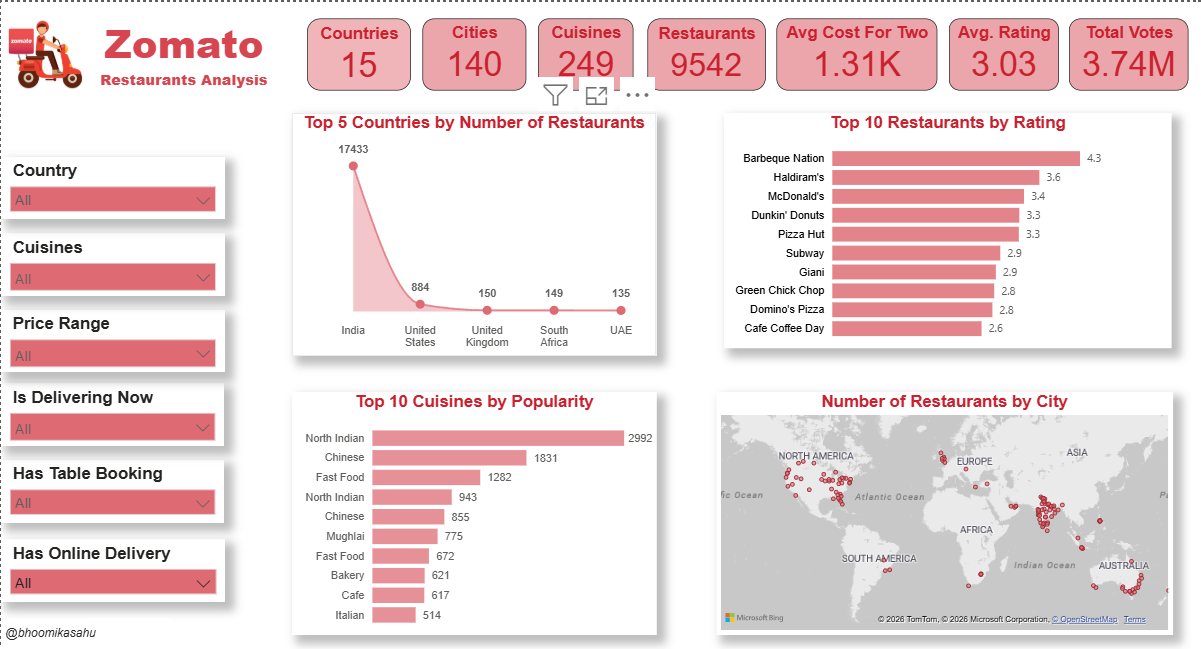

This screenshot's page, from the dashboard's own definition file:
{"tool":"powerbi","page":{"name":"Page 1","canvas":[1340,720],"ordinal":0},"visuals":[{"type":"card","title":"Restaurants","fields":{"Values":["Zomato_Dataset.Total Restaurants"]},"box":[718.8,18.8,131.2,80],"z":0},{"type":"card","title":"Cities","fields":{"Values":["Count(Zomato_Dataset.City)"]},"box":[467.5,18.8,115,80],"z":1000},{"type":"card","title":"Countries","fields":{"Values":["Count(Zomato_Dataset.Country)"]},"box":[340,18.8,115,80],"z":2000},{"type":"card","title":"Cuisines","fields":{"Values":["Count(Zomato_Dataset.Cuisines)"]},"box":[596.2,18.8,106.2,80],"z":3000},{"type":"card","title":"Avg. Rating","fields":{"Values":["Avg(Zomato_Dataset.Rating)"]},"box":[1053.3,18.3,121.7,80],"z":4000},{"type":"card","title":"Total Votes","fields":{"Values":["Sum(Zomato_Dataset.Votes)"]},"box":[1186.2,18.8,132.5,80],"z":5000},{"type":"card","title":"Avg Cost For Two","fields":{"Values":["Avg(Zomato_Dataset.Average_Cost_for_two)"]},"box":[861.7,18.3,178.3,80],"z":6000},{"type":"textbox","box":[82.5,10,240,97.5],"z":7000},{"type":"image","box":[0,12.5,96.2,90],"z":8000},{"type":"slicer","fields":{"Values":["Zomato_Dataset.Country"]},"box":[0,171.3,248.5,70],"z":9000},{"type":"slicer","fields":{"Values":["Zomato_Dataset.Cuisines"]},"box":[0,257,248.5,70],"z":10000},{"type":"slicer","fields":{"Values":["Zomato_Dataset.Price_range"]},"box":[0,341.4,248.5,70],"z":11000},{"type":"slicer","fields":{"Values":["Zomato_Dataset.Has Online Delivery"]},"box":[0,596,249,70],"z":12000},{"type":"slicer","fields":{"Values":["Zomato_Dataset.Is Delivering Now"]},"box":[0,423.5,248,70],"z":13000},{"type":"slicer","fields":{"Values":["Zomato_Dataset.Has Table Booking"]},"box":[0,507.9,248,70],"z":14000},{"type":"lineChart","title":"Top 5 Countries by Number of Restaurants","fields":{"Category":["Zomato_Dataset.Country"],"Y":["CountNonNull(Zomato_Dataset.RestaurantID)"]},"box":[322.5,123.8,405,270],"z":15000},{"type":"barChart","title":"Top 10 Cuisines by Popularity","fields":{"Category":["Zomato_Dataset.Cuisines"],"Y":["CountNonNull(Zomato_Dataset.Cuisines)"]},"box":[322.5,432.5,405,270],"z":16000},{"type":"barChart","title":"Top 10 Restaurants by Rating","fields":{"Category":["Zomato_Dataset.RestaurantName"],"Y":["Avg(Zomato_Dataset.Rating)"]},"box":[803.8,123.8,497.5,261.2],"z":17000},{"type":"map","title":"Number of Restaurants by City","fields":{"Category":["Zomato_Dataset.City"]},"box":[794.3,432.9,507.1,270],"z":18000},{"type":"textbox","box":[0,684.4,191.1,35.6],"z":19000}]}

Visuals, with their boxes in screenshot pixels (x1, y1, x2, y2), scaled from the page's 1340x720 canvas onto the 1201x649 screenshot:
"Restaurants" card: bbox=[644, 17, 762, 89]
"Cities" card: bbox=[419, 17, 522, 89]
"Countries" card: bbox=[305, 17, 408, 89]
"Cuisines" card: bbox=[534, 17, 630, 89]
"Avg. Rating" card: bbox=[944, 16, 1053, 89]
"Total Votes" card: bbox=[1063, 17, 1182, 89]
"Avg Cost For Two" card: bbox=[772, 16, 932, 89]
textbox: bbox=[74, 9, 289, 97]
image: bbox=[0, 11, 86, 92]
slicer - Zomato_Dataset.Country: bbox=[0, 154, 223, 218]
slicer - Zomato_Dataset.Cuisines: bbox=[0, 232, 223, 295]
slicer - Zomato_Dataset.Price_range: bbox=[0, 308, 223, 371]
slicer - Zomato_Dataset.Has Online Delivery: bbox=[0, 537, 223, 600]
slicer - Zomato_Dataset.Is Delivering Now: bbox=[0, 382, 222, 445]
slicer - Zomato_Dataset.Has Table Booking: bbox=[0, 458, 222, 521]
"Top 5 Countries by Number of Restaurants" lineChart: bbox=[289, 112, 652, 355]
"Top 10 Cuisines by Popularity" barChart: bbox=[289, 390, 652, 633]
"Top 10 Restaurants by Rating" barChart: bbox=[720, 112, 1166, 347]
"Number of Restaurants by City" map: bbox=[712, 390, 1166, 634]
textbox: bbox=[0, 617, 171, 648]
